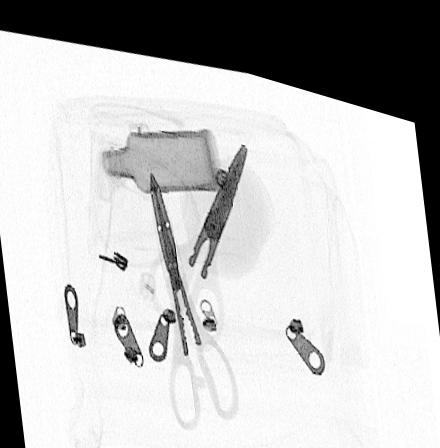Scissors: (143, 157, 242, 426), (148, 124, 252, 347)
